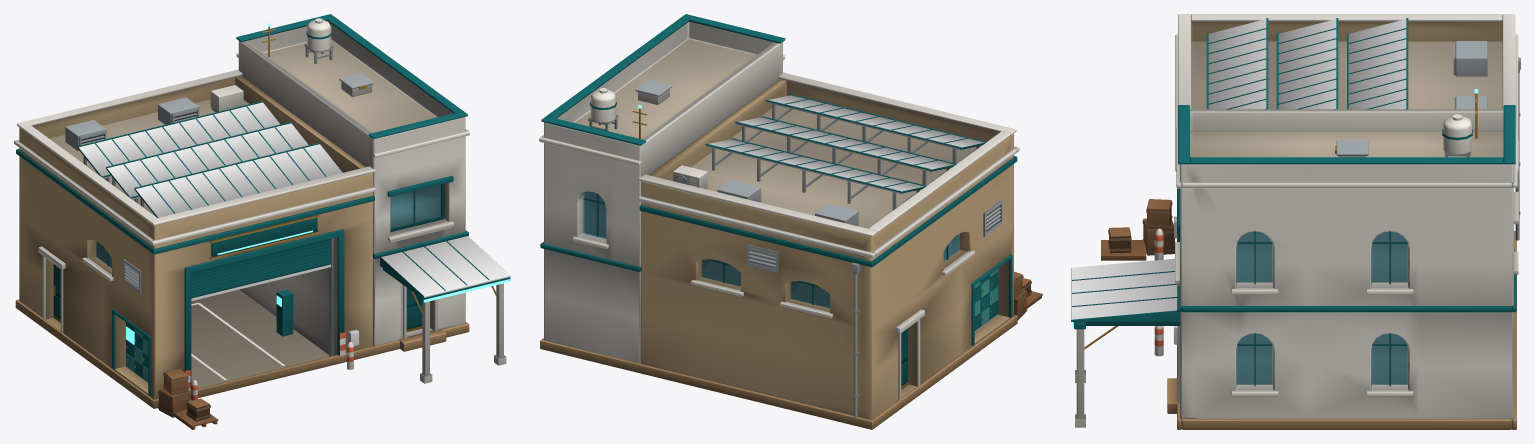
Rendered from bldg_depot.fbx.
The picture shows the model from 3 angles, left to right: view 1: azimuth 30°, elevation 25°; view 2: azimuth 150°, elevation 25°; view 3: azimuth 270°, elevation 25°; orthographic projection. The views are drawn at different scales.
Visible parts, largest first — view 1: bldg_depot; view 2: bldg_depot; view 3: bldg_depot.
Part boxes in pixels (x1,y1,x2,y2): bldg_depot: [14, 14, 510, 429]; bldg_depot: [539, 14, 1042, 429]; bldg_depot: [1071, 14, 1520, 429].
Bounding box in the file's own units: 12.08 × 8.65 × 11.99.
